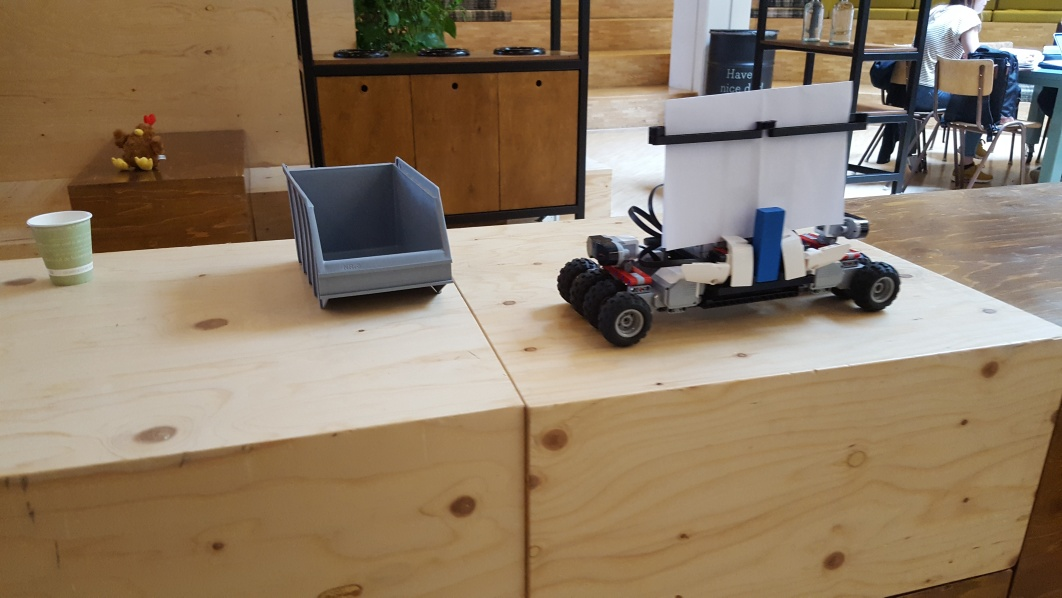beam: (755, 205, 784, 285)
chicken: (109, 114, 168, 174)
cup: (24, 209, 98, 289)
tray: (279, 156, 455, 309)
